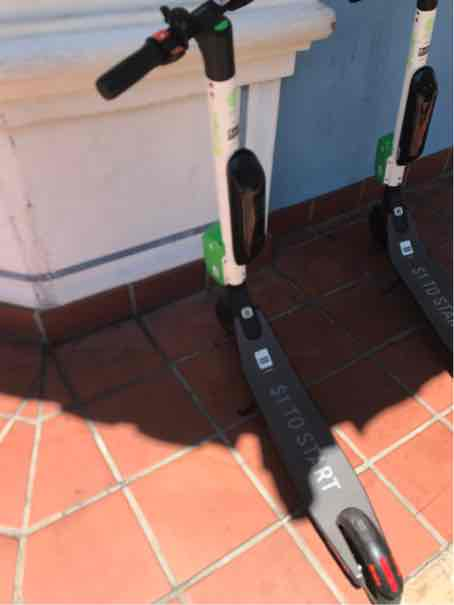scooter: (79, 9, 407, 605)
